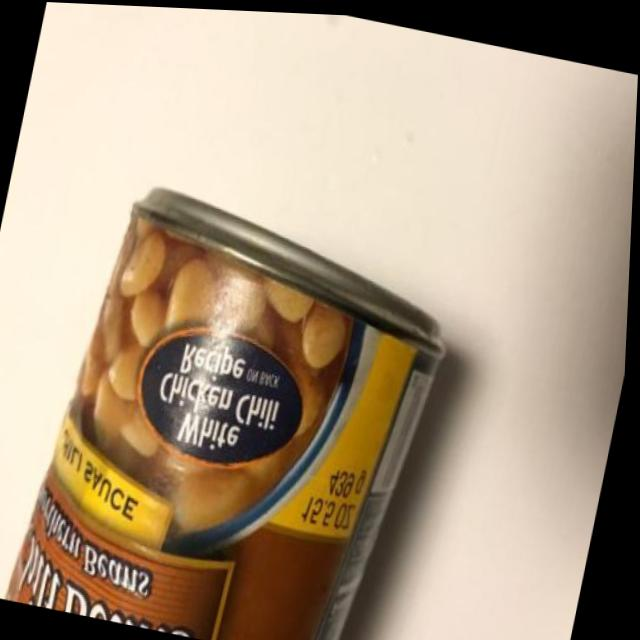metal: (8, 188, 443, 639)
